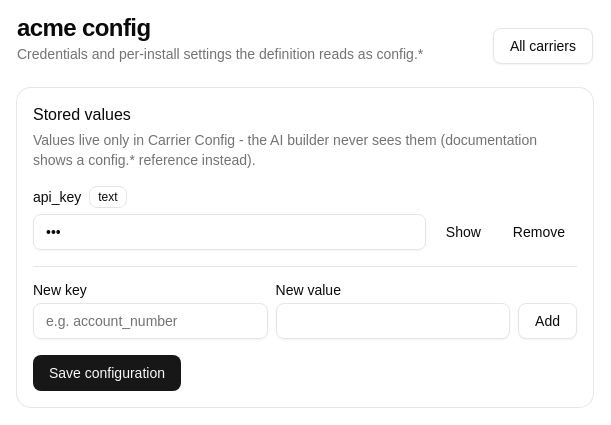
Test: CarrierConfigPage › masks values until revealed
What coordinates should you click on to do the following:
click the button with aria-label "show api_key"
I would click on:
 (463, 232)
Its box is [434,216,493,248].
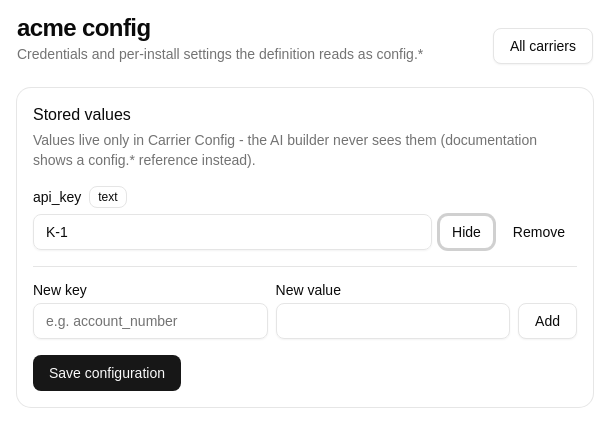
Now the field labelled "api_key" shows its text, box [33,214,432,250]
